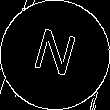N_S: (29, 25, 81, 85)
